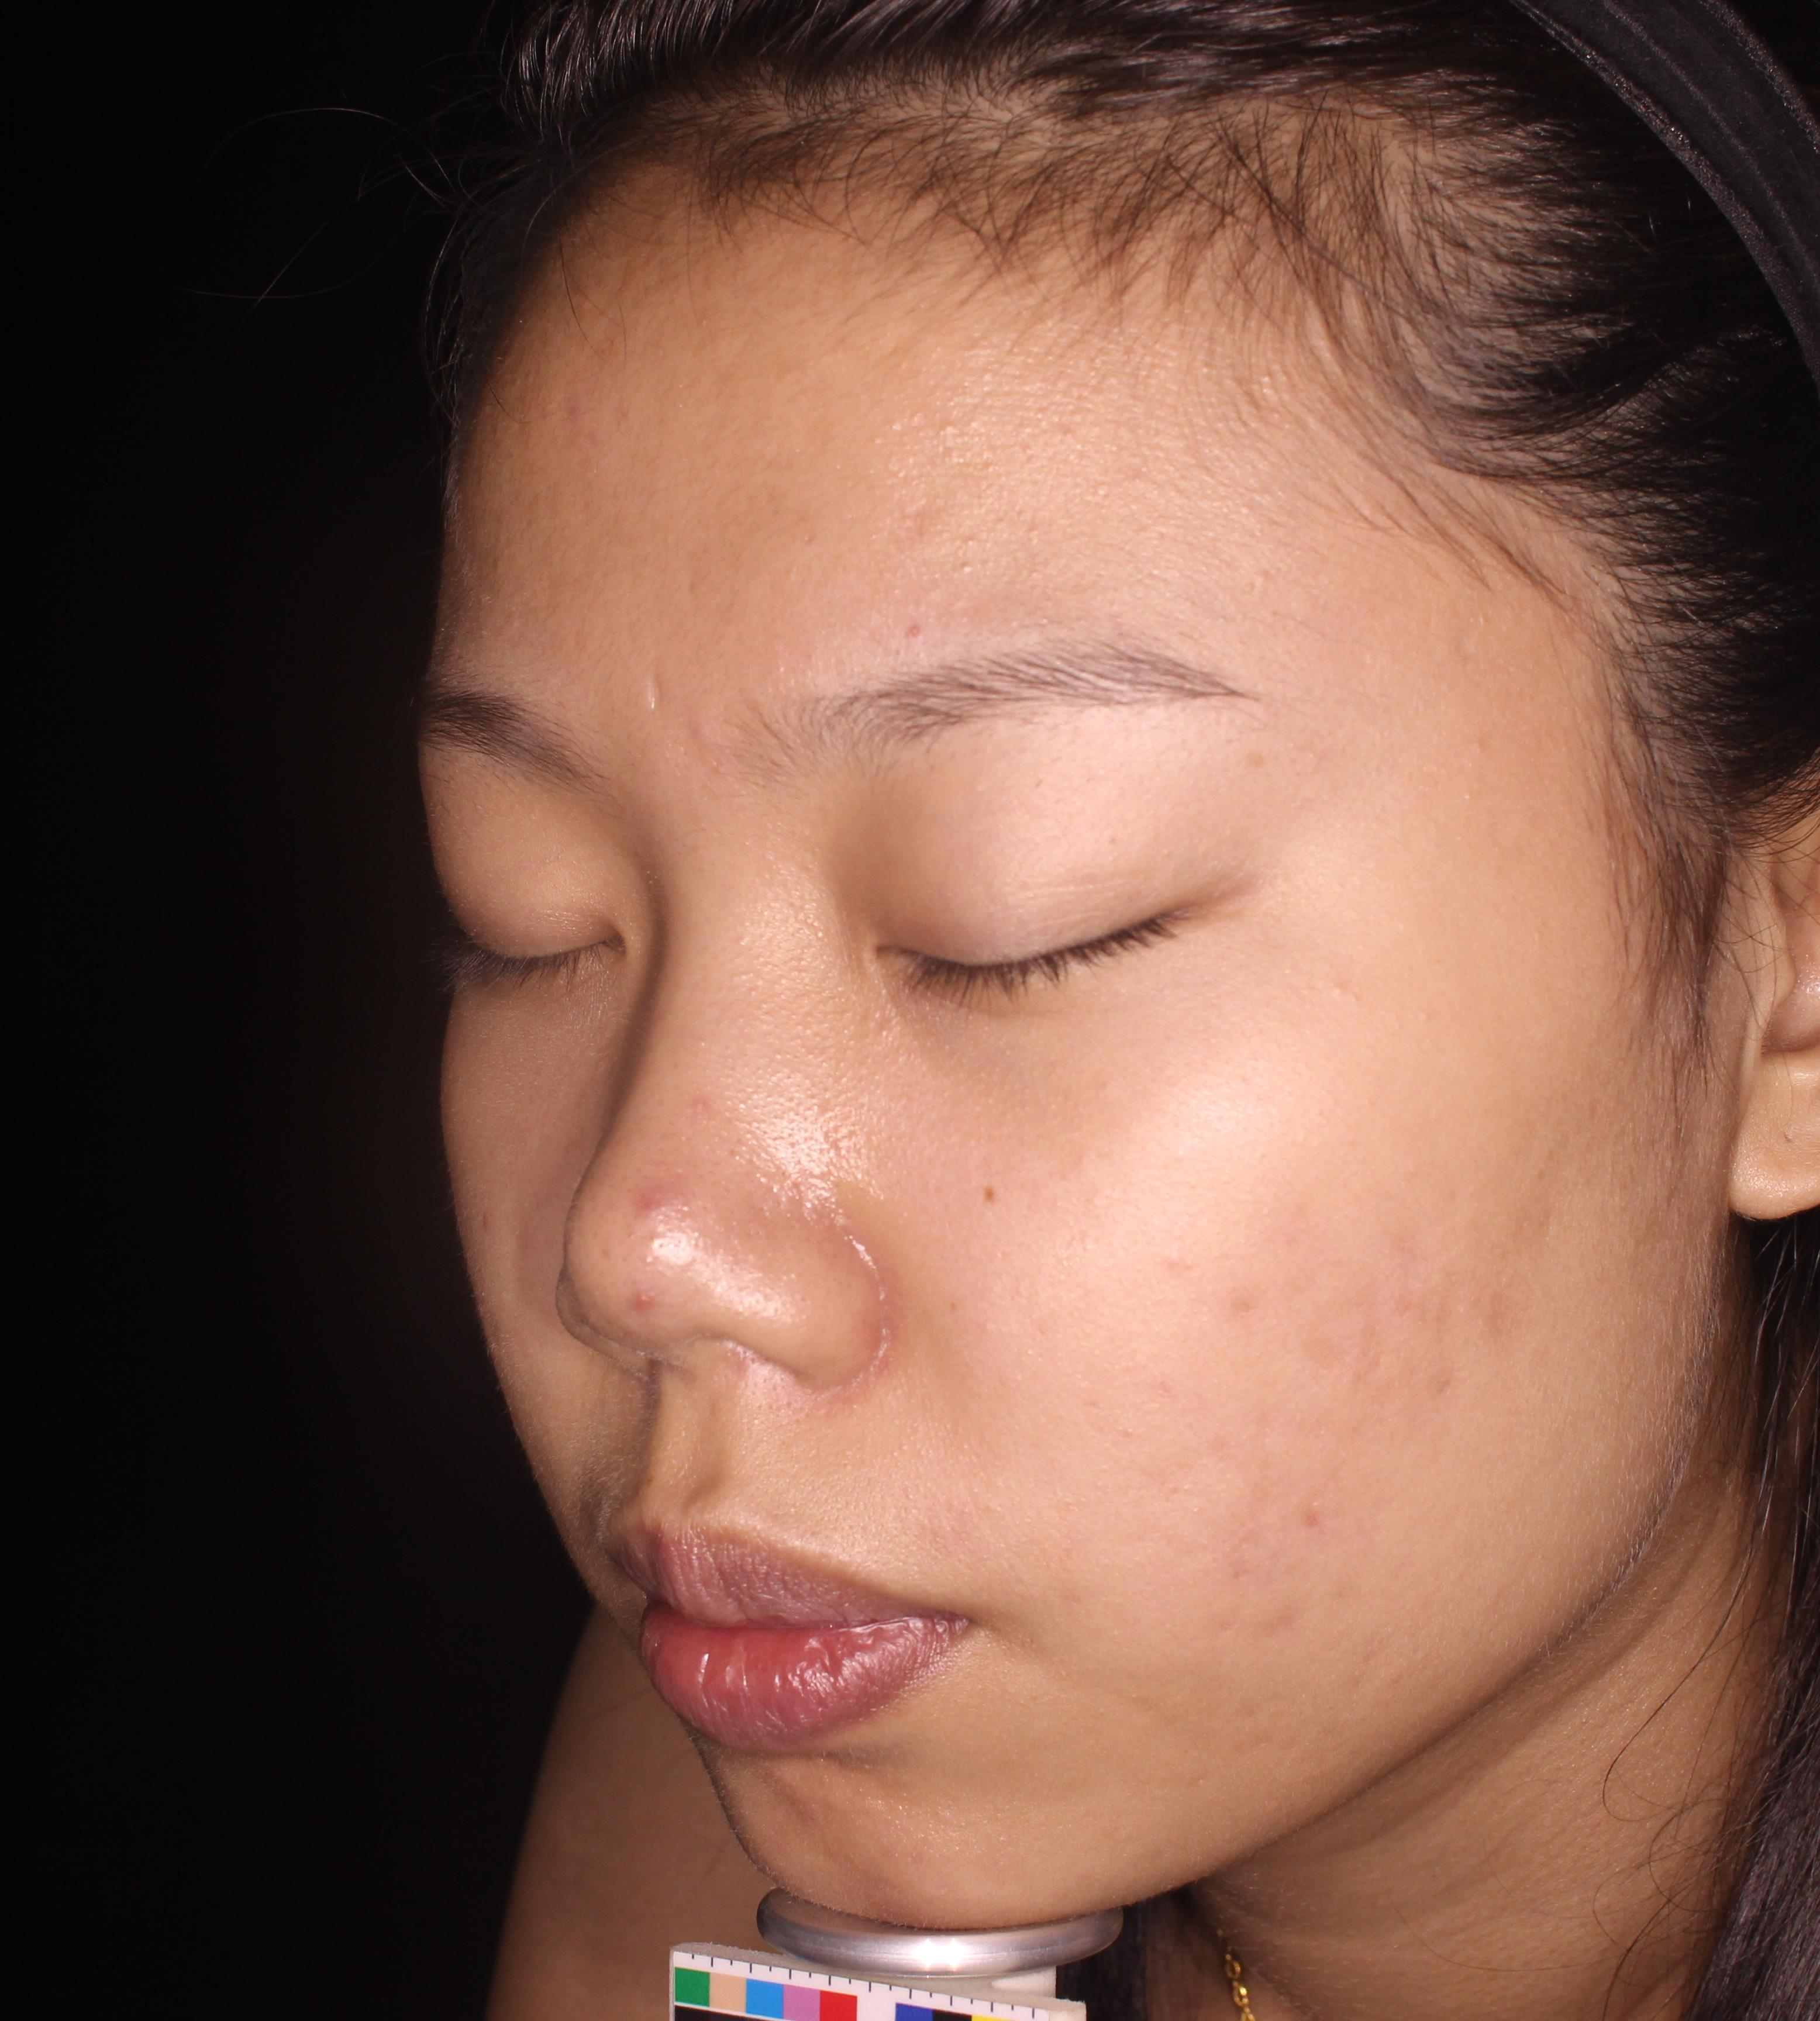fore: (1360, 1190, 1418, 1277)
